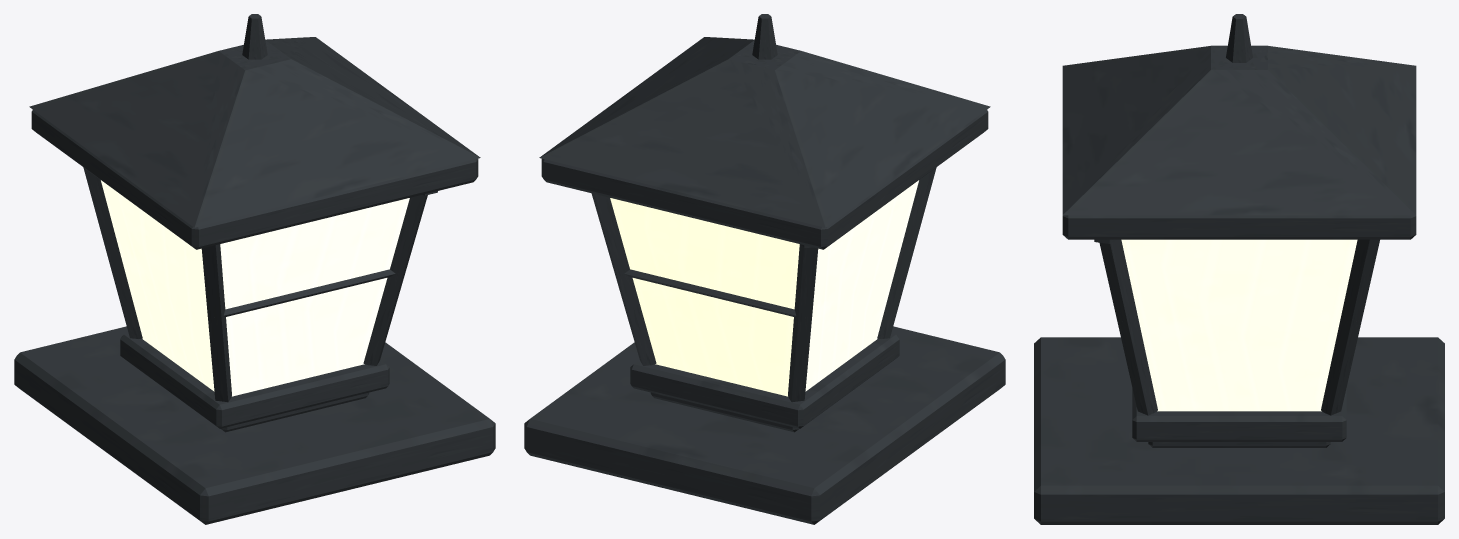
File: lamp_fence.glb
The picture shows the model from 3 angles, left to right: view 1: azimuth 30°, elevation 25°; view 2: azimuth 150°, elevation 25°; view 3: azimuth 270°, elevation 25°; orthographic projection. The views are drawn at different scales.
Parts seen in each view (by area): view 1: outdoor_lamp_fence; view 2: outdoor_lamp_fence; view 3: outdoor_lamp_fence.
Part boxes in pixels (x1,y1,x2,y2): outdoor_lamp_fence: (14,14,495,524); outdoor_lamp_fence: (524,14,1005,524); outdoor_lamp_fence: (1034,14,1444,524).
Bounding box in the file's own units: 0.32 × 0.42 × 0.36.
2 materials, 2 textured.
